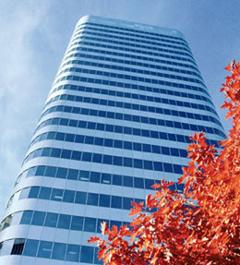building: (0, 14, 240, 265)
